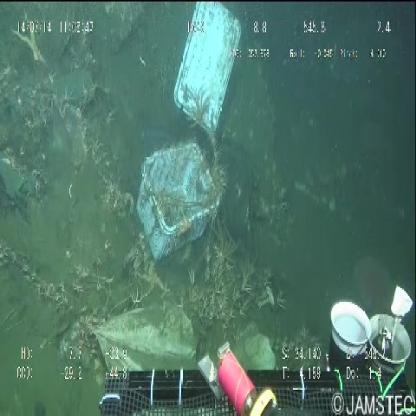Rov: (84, 266, 416, 416)
Rác: (129, 2, 251, 265)
